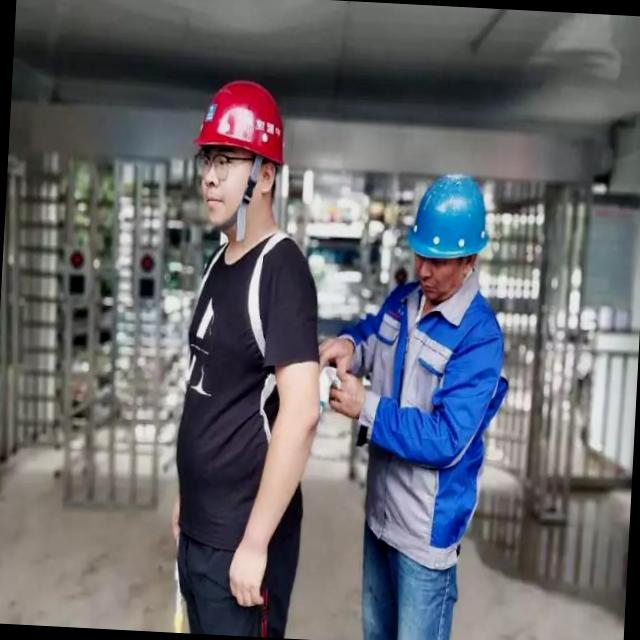helmet: (399, 164, 510, 280), (190, 72, 292, 156)
no-vest: (160, 229, 320, 563), (320, 291, 502, 569)
